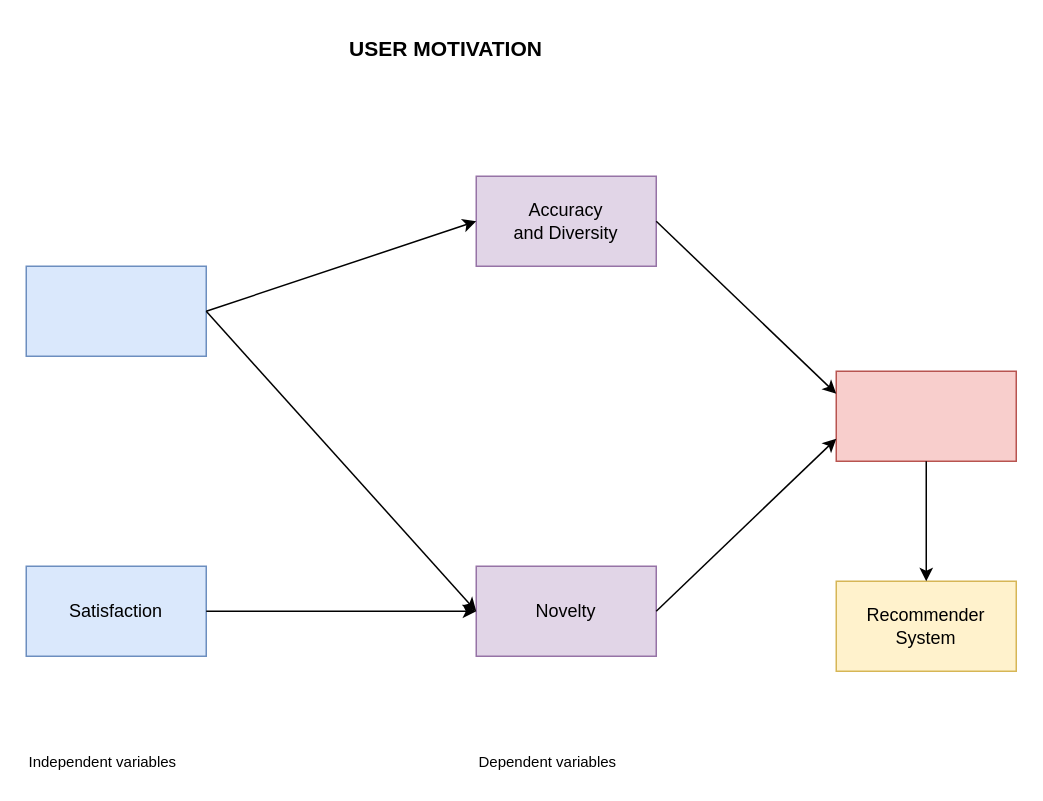
The diagram is 1043 pixels wide and 801 high, and some of its shapes have lost their labels. The centre of each missing label's shape, as x and y in pixels:
Attitude toward using: (925,415)
Understand- me: (115,310)
